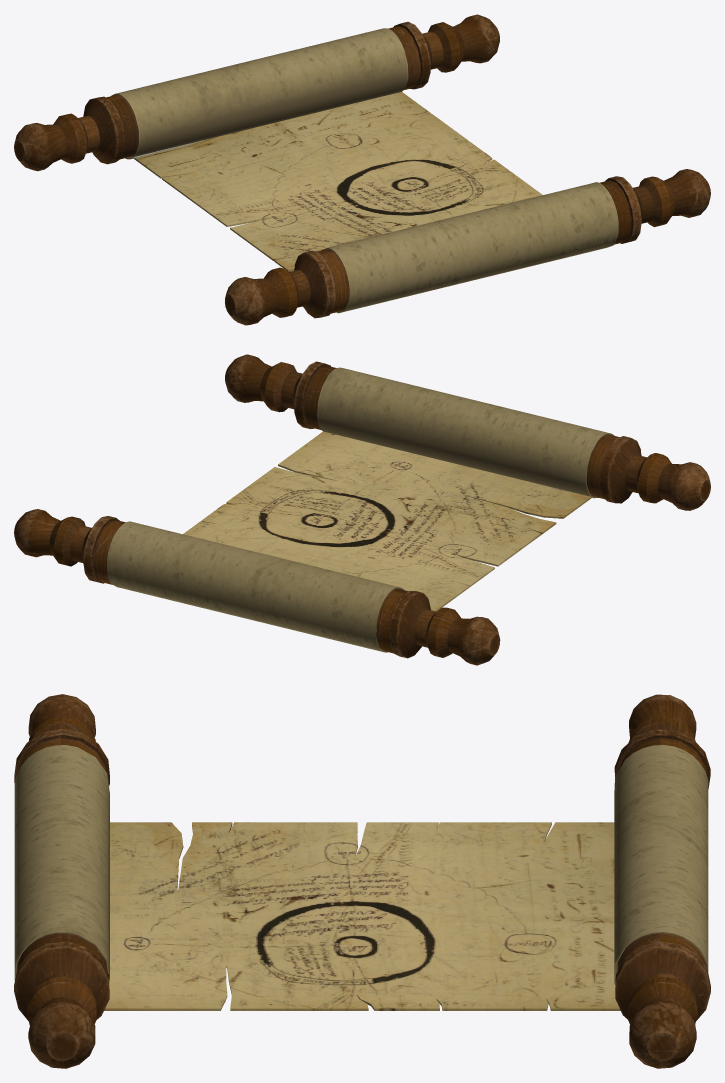
The model's file is 3DArt_Props_Scrolls_Model_Amanda_V01.fbx.
The picture shows the model from 3 angles, top to bottom: view 1: azimuth 30°, elevation 25°; view 2: azimuth 150°, elevation 25°; view 3: azimuth 270°, elevation 25°; orthographic projection. The views are drawn at different scales.
Parts seen in each view (by area): view 1: Scroll_V1; view 2: Scroll_V1; view 3: Scroll_V1.
Boxes of the visible parts, left/top/right/bottom form: Scroll_V1: left=14, top=14, right=710, bottom=325; Scroll_V1: left=14, top=354, right=710, bottom=665; Scroll_V1: left=14, top=694, right=710, bottom=1068.
Size of the model in its own units: 38.44 by 4.75 by 34.29.
Materials: 1 (1 with a texture image).
